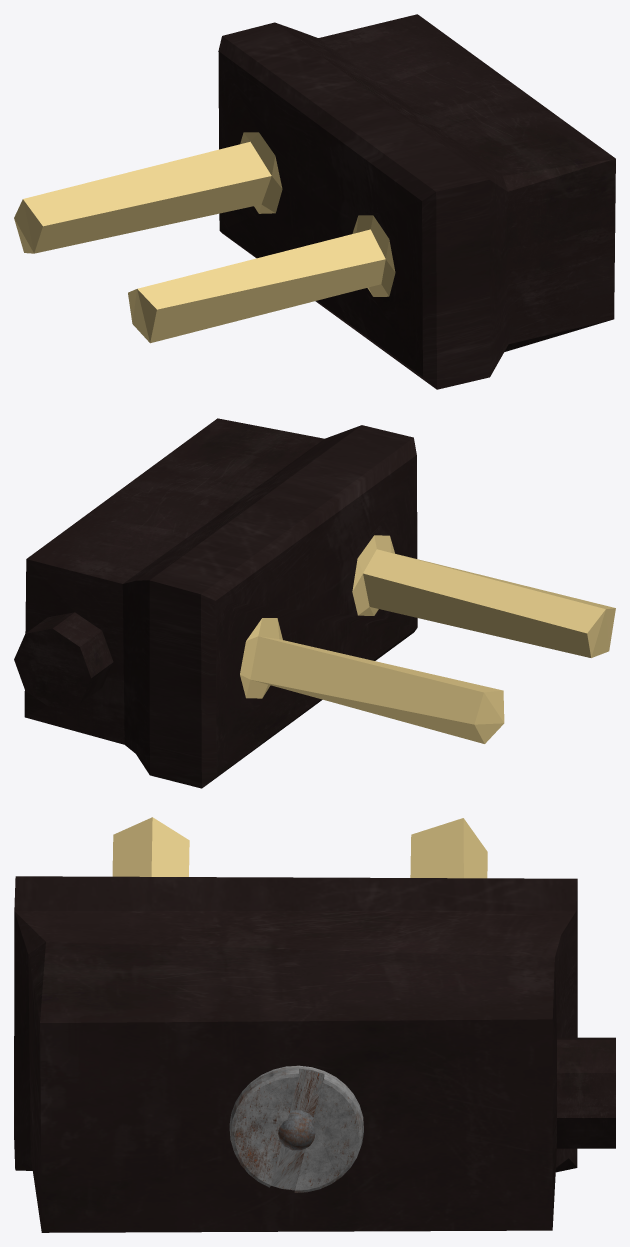
The model's file is PlugBoardPlug2.fbx.
The picture shows the model from 3 angles, top to bottom: view 1: azimuth 30°, elevation 25°; view 2: azimuth 150°, elevation 25°; view 3: azimuth 270°, elevation 25°; orthographic projection. The views are drawn at different scales.
Visible parts, largest first — view 1: PlugBoardPlug; view 2: PlugBoardPlug; view 3: PlugBoardPlug.
Part boxes in pixels (box(x1,y1,x2,y2)): PlugBoardPlug: box(14, 14, 615, 389); PlugBoardPlug: box(14, 418, 615, 788); PlugBoardPlug: box(14, 817, 615, 1232).
Bounding box in the file's own units: 300 × 125 × 263.
